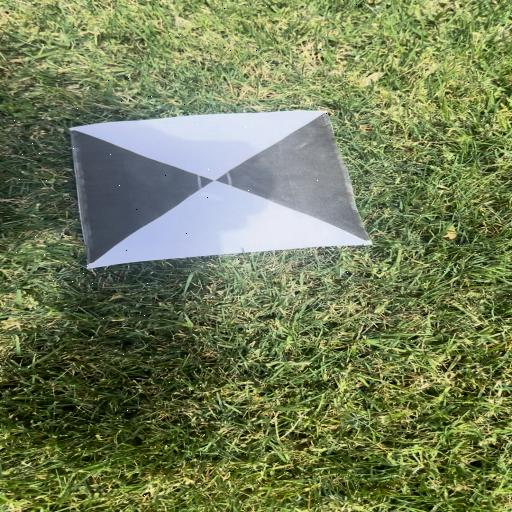target: (70, 109, 372, 268)
